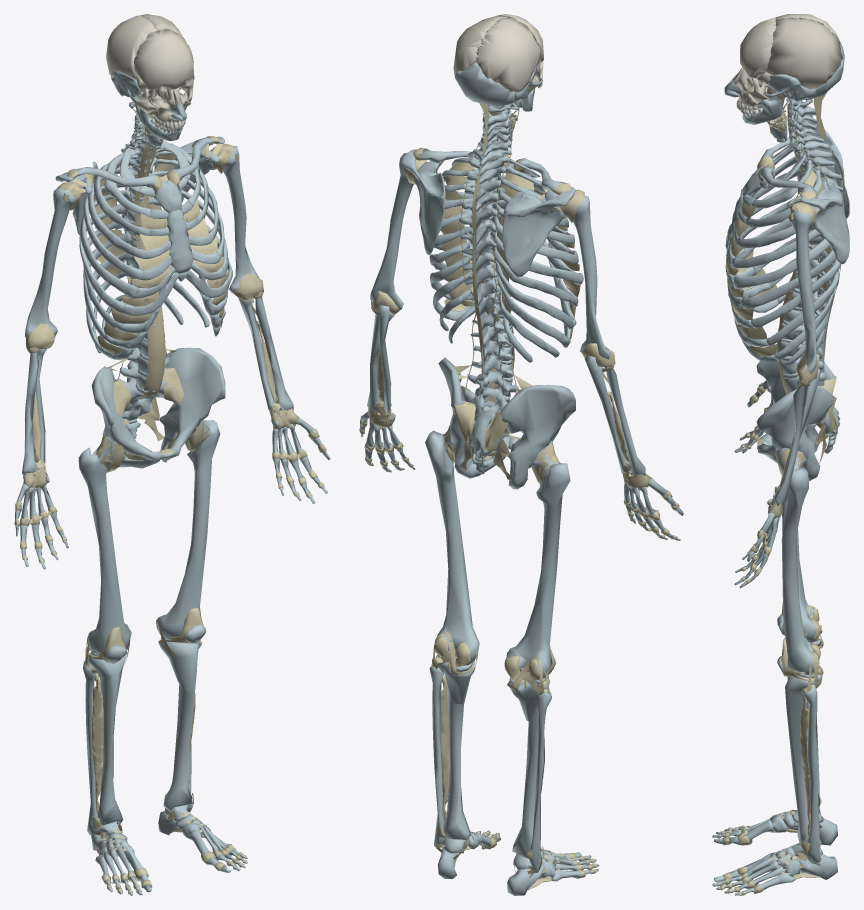
File: esqueleto.glb
The picture shows the model from 3 angles, left to right: view 1: azimuth 30°, elevation 25°; view 2: azimuth 150°, elevation 25°; view 3: azimuth 270°, elevation 25°; orthographic projection. The views are drawn at different scales.
Parts seen in each view (by area): view 1: esqueleto; view 2: esqueleto; view 3: esqueleto.
Part boxes in pixels (x1,y1,x2,y2): esqueleto: (14,14,330,895); esqueleto: (359,14,683,895); esqueleto: (712,14,849,895).
Bounding box in the file's own units: 0.6691 × 1.7 × 0.2501.
